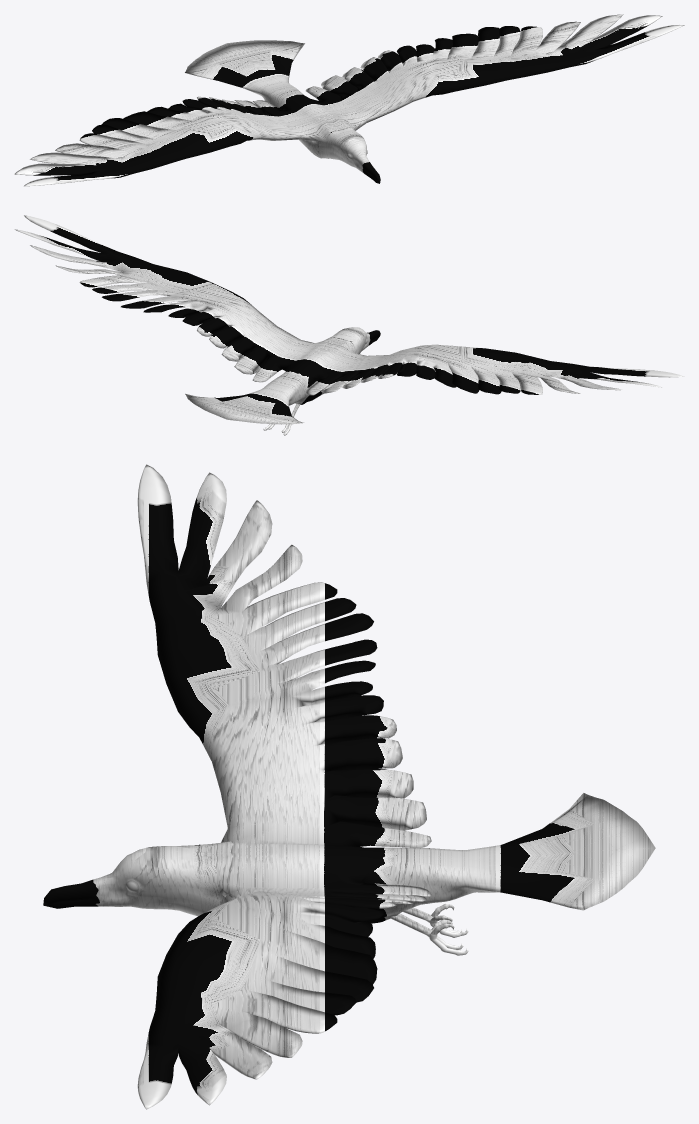
File: bird_fly.obj
3 renders of one model, top to bottom at view 1: azimuth 30°, elevation 25°; view 2: azimuth 150°, elevation 25°; view 3: azimuth 270°, elevation 25°, orthographic. The views are drawn at different scales.
Parts seen in each view (by area): view 1: GULL; view 2: GULL; view 3: GULL.
Boxes of the visible parts, x1,y1,x2,y2 form: GULL: (14, 14, 684, 186); GULL: (14, 215, 684, 435); GULL: (43, 464, 655, 1109).
Bounding box in the file's own units: 3.22 × 0.372 × 1.29.
Materials: 1 (1 with a texture image).
